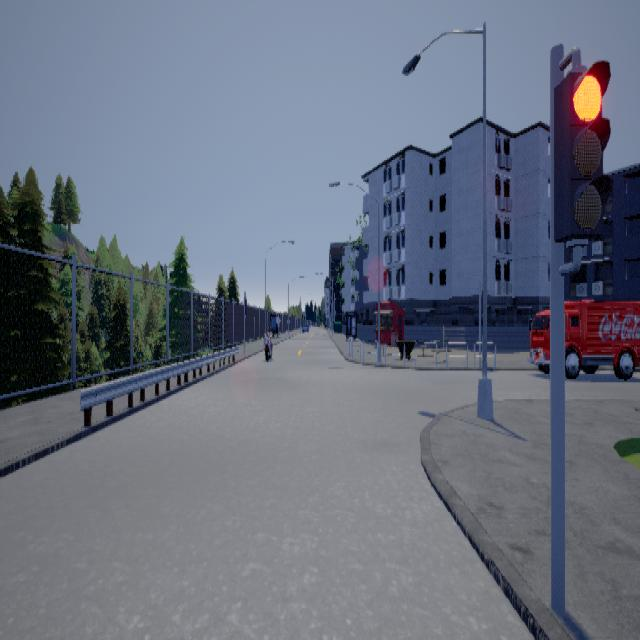motobike: (262, 325, 275, 360)
red_light: (553, 46, 610, 274)
vehicle: (528, 298, 639, 379)
